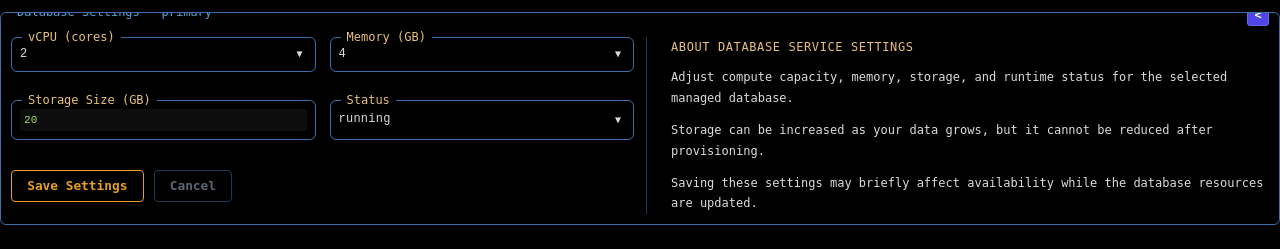
Service Settings Pages (PR #39) › prevents a database storage-size decrease
Replace the text in the number field labelled "Storage Size (GB)" with "19": (163, 120) [20,109,306,131]
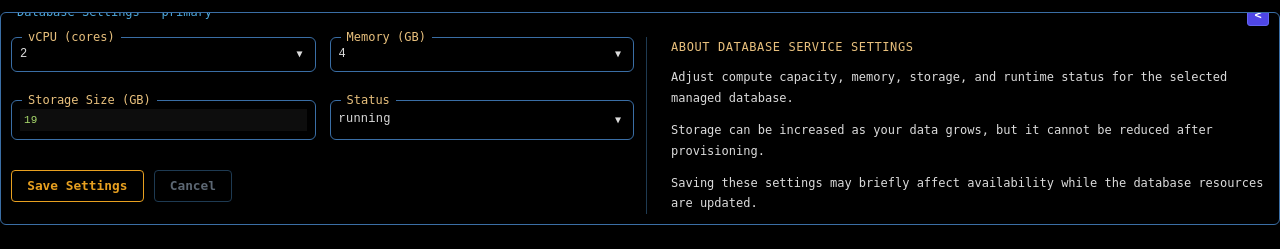
Click the button "Save Settings": (77, 186) [11,170,144,202]
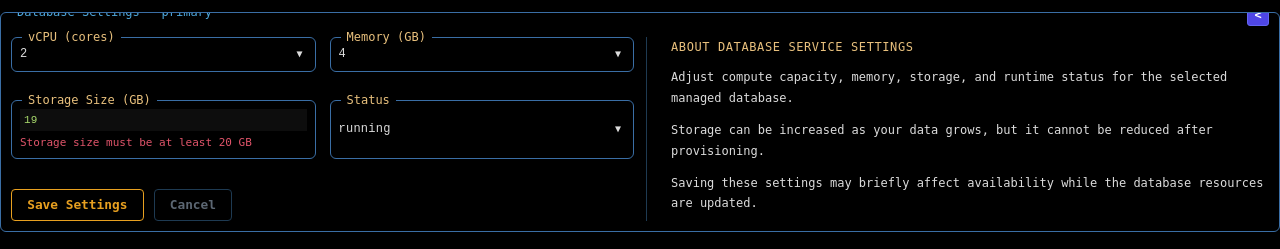
Check: the text "Storage size must be at least 20 GB" is shown, box [20,136,252,149]
